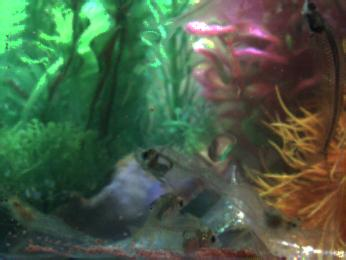X-ray fish: (131, 193, 183, 252), (132, 142, 208, 182), (153, 211, 221, 253)
glassfish: (300, 1, 344, 177)
siberian prawn: (201, 162, 306, 231), (3, 192, 99, 244)
